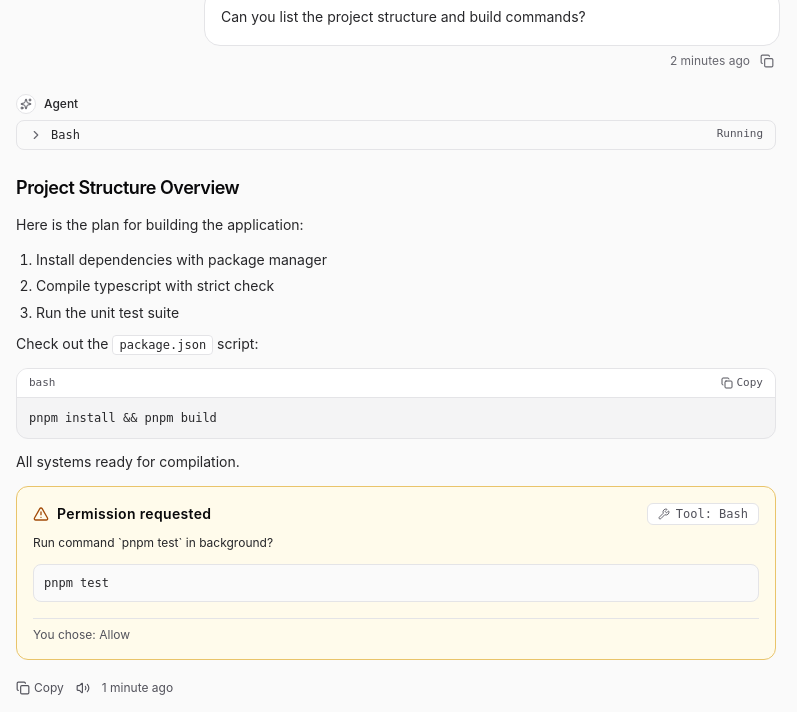
Test: ChatCanvas Component › speaks a markdown-free version of the message and offers to stop
The image size is (797, 712).
(page scrolled)
What coordinates should you click on to do the following:
click the button named "read aloud"
I would click on:
 (83, 688)
Its box is [76, 681, 90, 695].
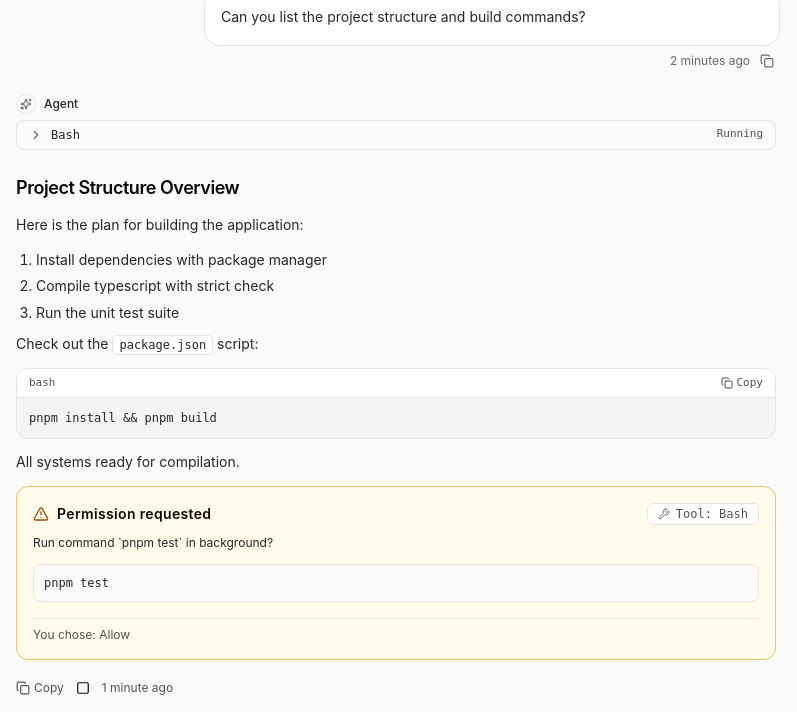
Expected: the button named "stop reading" is shown, [76, 681, 90, 695]
